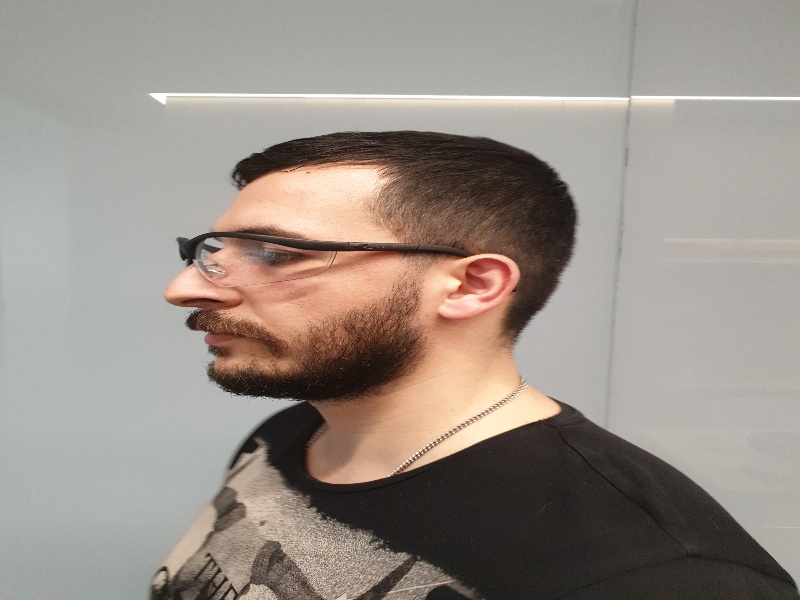Gozluk: (175, 231, 469, 292)
